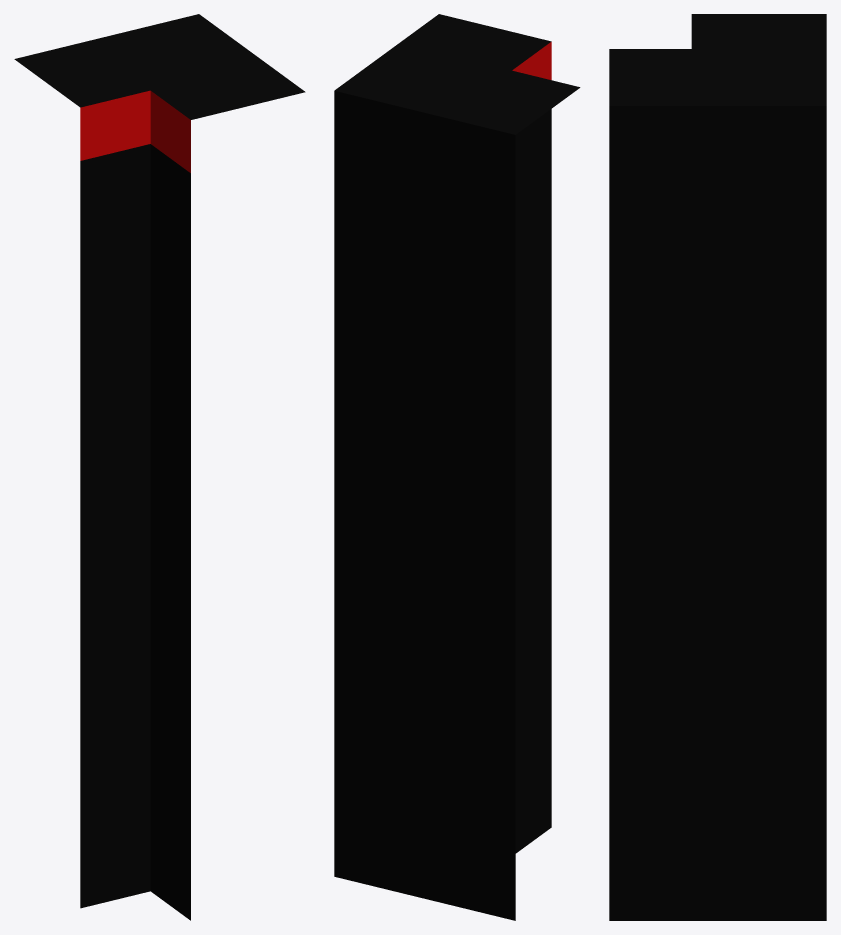
File: ext_corner_in.glb
The picture shows the model from 3 angles, left to right: view 1: azimuth 30°, elevation 25°; view 2: azimuth 150°, elevation 25°; view 3: azimuth 270°, elevation 25°; orthographic projection. The views are drawn at different scales.
Visible parts, largest first — view 1: ext_corner_in; view 2: ext_corner_in; view 3: ext_corner_in.
Boxes of the visible parts, left/top/right/bottom form: ext_corner_in: left=14, top=14, right=305, bottom=920; ext_corner_in: left=334, top=14, right=580, bottom=920; ext_corner_in: left=609, top=14, right=826, bottom=920.
Bounding box in the file's own units: 0.725 × 3 × 0.725.
